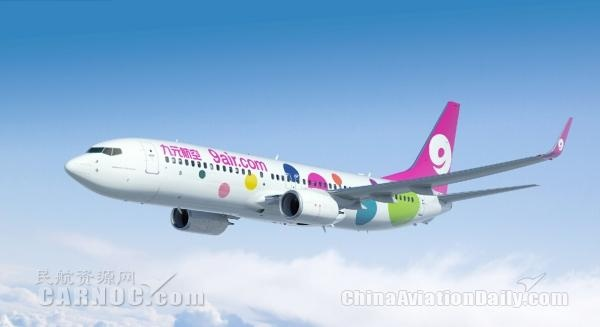airplane: (64, 99, 574, 235)
